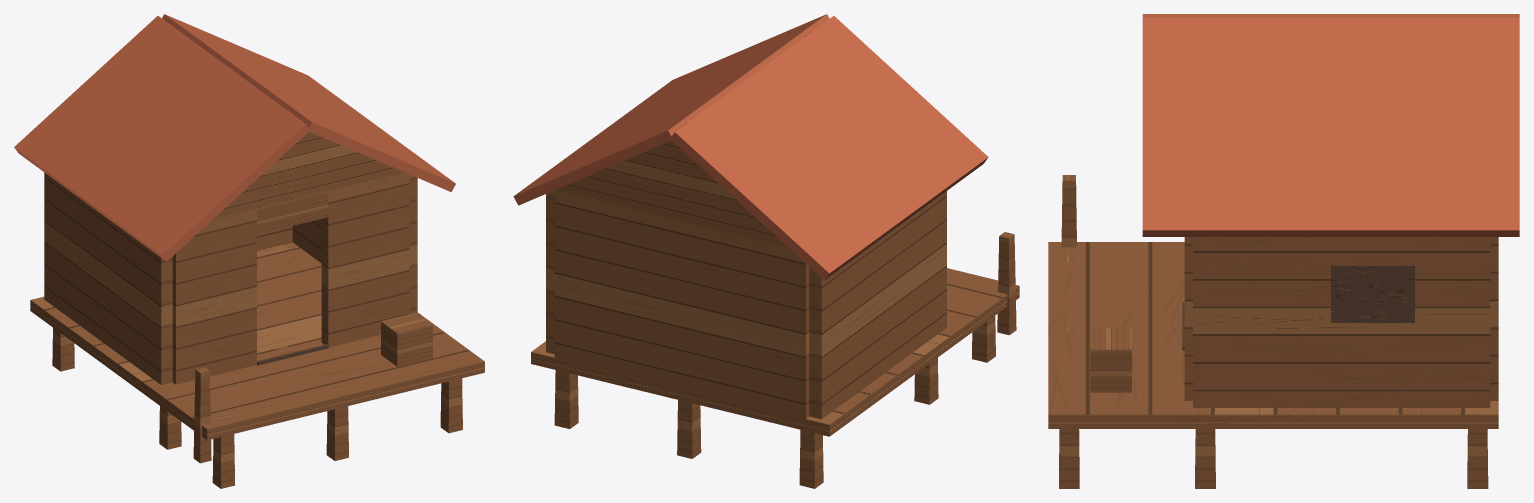
The model's file is ferry_hut.glb.
3 renders of one model, left to right at view 1: azimuth 30°, elevation 25°; view 2: azimuth 150°, elevation 25°; view 3: azimuth 270°, elevation 25°, orthographic. The views are drawn at different scales.
Parts seen in each view (by area): view 1: ferry_hut; view 2: ferry_hut; view 3: ferry_hut.
Part boxes in pixels (x1=…): ferry_hut: x1=14, y1=14, x2=484, y2=488; ferry_hut: x1=513, y1=14, x2=1019, y2=488; ferry_hut: x1=1048, y1=14, x2=1519, y2=488.
Size of the model in its own units: 4.13 by 4.19 by 4.5.
1 material, 1 textured.
